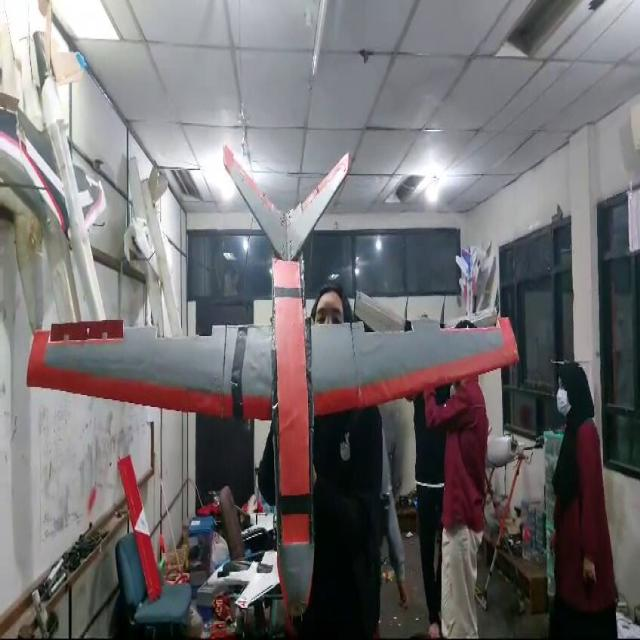plane: (26, 142, 520, 633)
